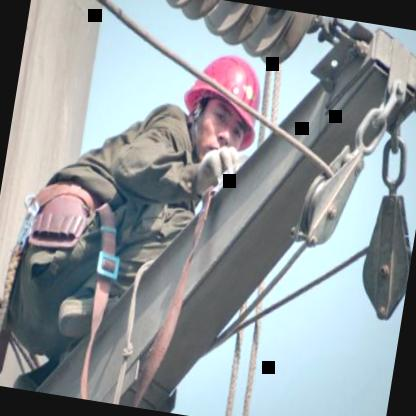helmet: (170, 38, 274, 172)
